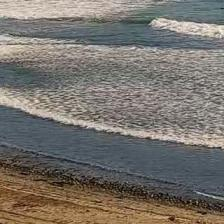surfer: (219, 7, 224, 10), (219, 0, 223, 1)
